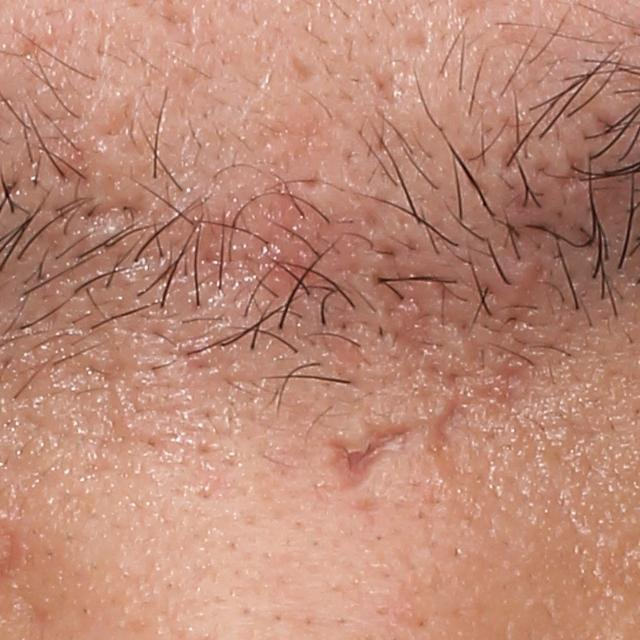atrophic_scar: (316, 418, 422, 482), (94, 96, 152, 161), (432, 389, 465, 451), (283, 51, 318, 84), (404, 34, 433, 53), (296, 172, 321, 192)
